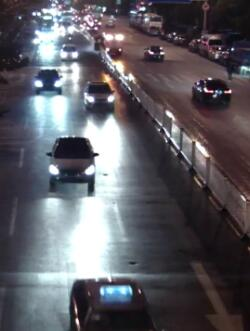bus: (139, 11, 164, 35)
car: (67, 277, 153, 328), (44, 134, 101, 192), (191, 75, 234, 109), (81, 79, 118, 112), (31, 66, 67, 96), (100, 27, 127, 55), (57, 42, 80, 63), (142, 43, 166, 63), (201, 31, 218, 55), (209, 42, 231, 60)
